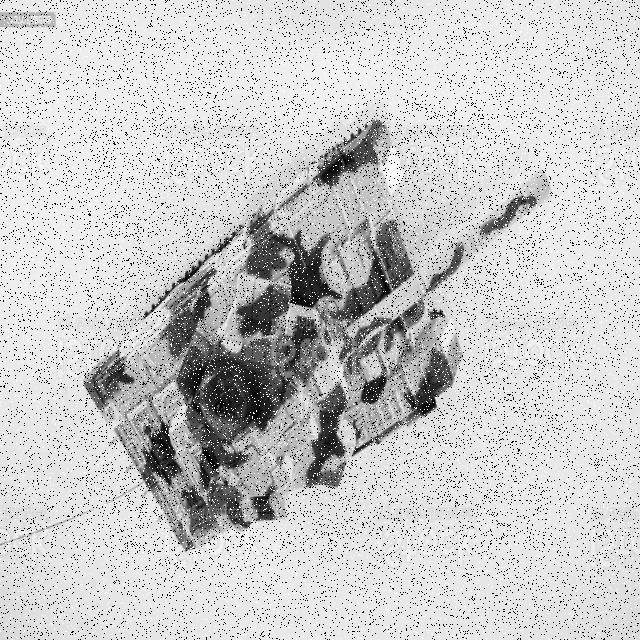MIL_MBT: (82, 114, 552, 552)
